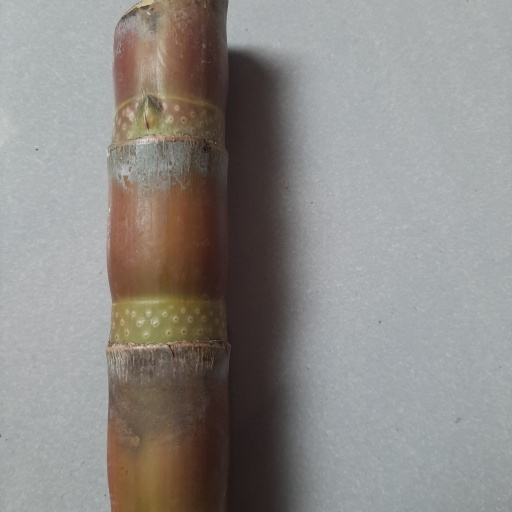Bud: (136, 96, 163, 133)
